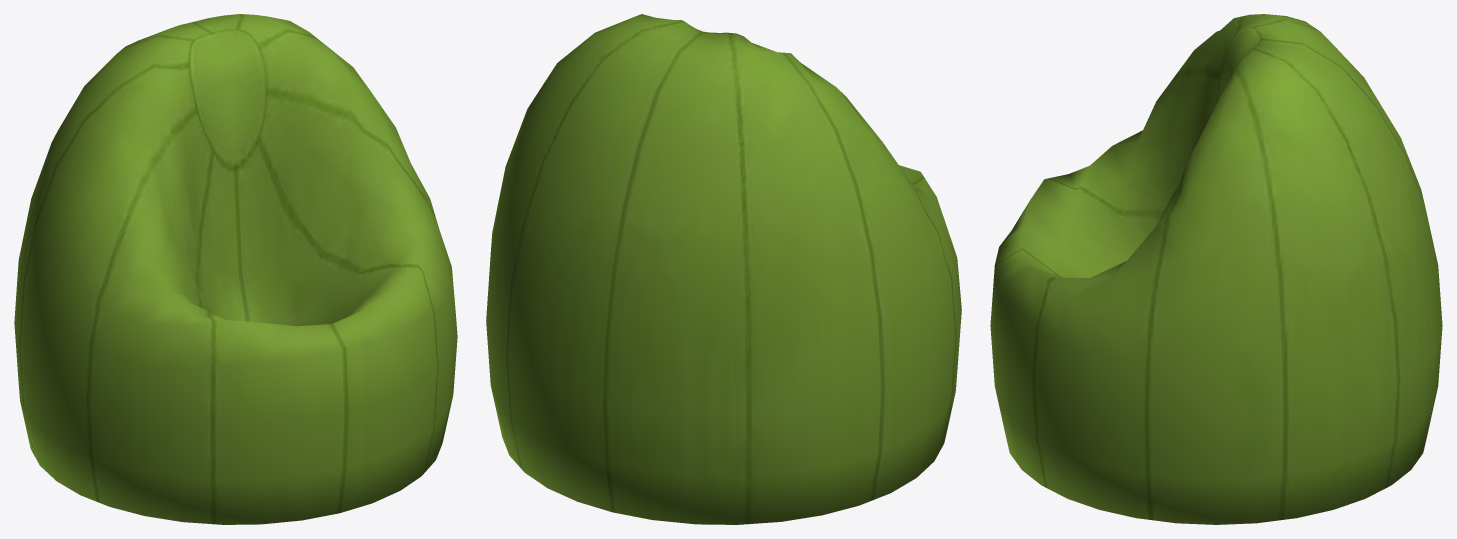
File: sh-scopia-puff.glb
3 renders of one model, left to right at view 1: azimuth 30°, elevation 25°; view 2: azimuth 150°, elevation 25°; view 3: azimuth 270°, elevation 25°, orthographic. The views are drawn at different scales.
Parts seen in each view (by area): view 1: Sphere; view 2: Sphere; view 3: Sphere.
Part boxes in pixels (x1,y1,x2,y2): Sphere: (14,14,457,524); Sphere: (486,14,961,524); Sphere: (990,14,1442,524).
Size of the model in its own units: 1 by 1 by 1.
Materials: 1 (1 with a texture image).
